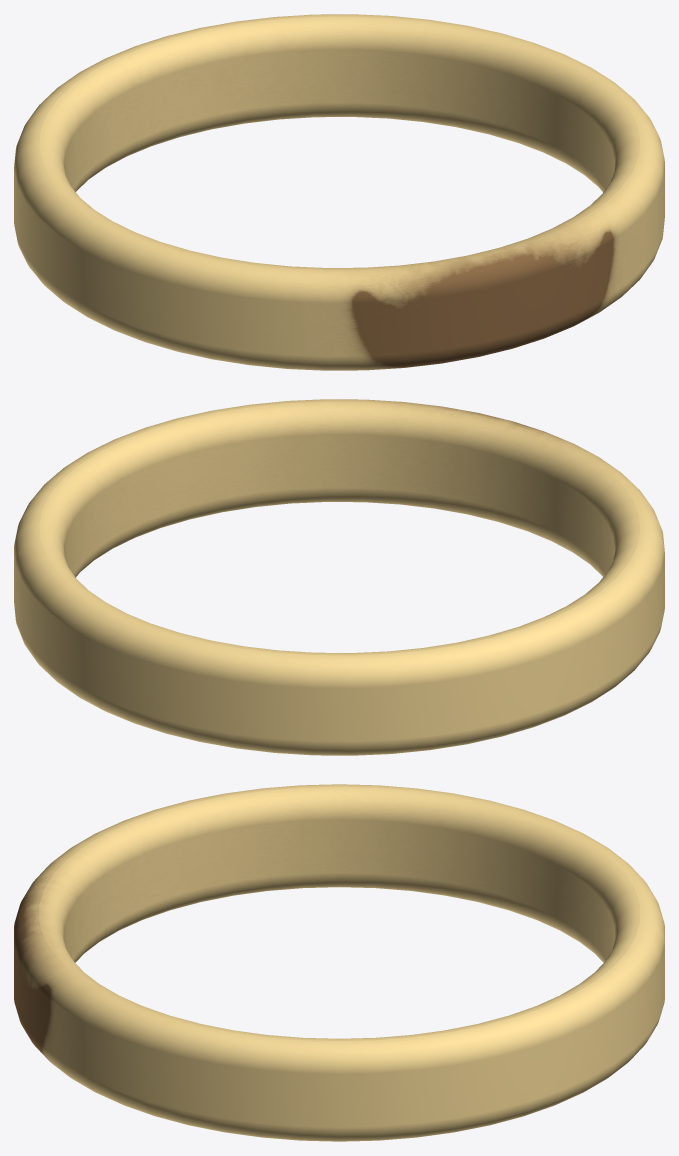
File: ring.obj
3 views of the same model, one above another, from view 1: azimuth 30°, elevation 25°; view 2: azimuth 150°, elevation 25°; view 3: azimuth 270°, elevation 25° (orthographic).
Visible parts, largest first — view 1: defaultMaterial; view 2: defaultMaterial; view 3: defaultMaterial.
Part boxes in pixels (bbox=[...]): defaultMaterial: bbox=[14, 14, 664, 370]; defaultMaterial: bbox=[14, 399, 664, 755]; defaultMaterial: bbox=[14, 784, 664, 1141].
Bounding box in the file's own units: 2 × 0.3324 × 2.
